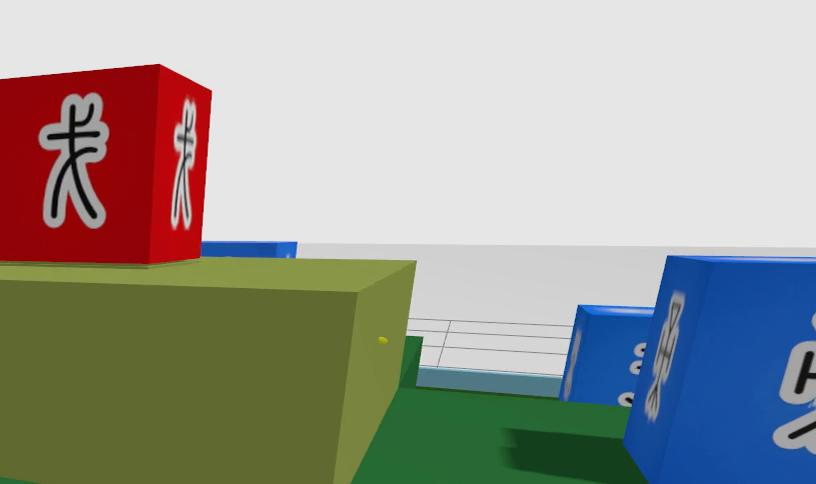KFS_FAKE: (0, 64, 212, 265), (39, 92, 108, 227), (170, 100, 201, 228)
